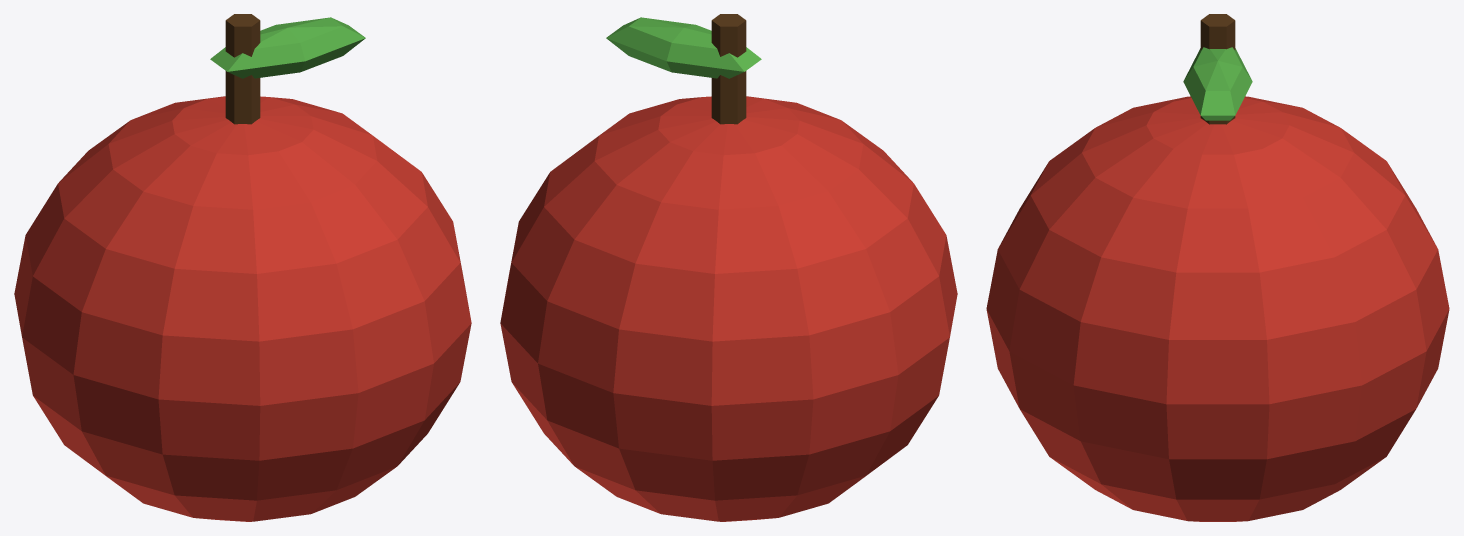
File: apple.glb
3 renders of one model, left to right at view 1: azimuth 30°, elevation 25°; view 2: azimuth 150°, elevation 25°; view 3: azimuth 270°, elevation 25°, orthographic.
Visible parts, largest first — view 1: apple; view 2: apple; view 3: apple.
Boxes of the visible parts, left/top/right/bottom form: apple: left=14, top=14, right=471, bottom=521; apple: left=500, top=14, right=957, bottom=521; apple: left=986, top=14, right=1449, bottom=521.
Size of the model in its own units: 0.156 by 0.1836 by 0.16.
